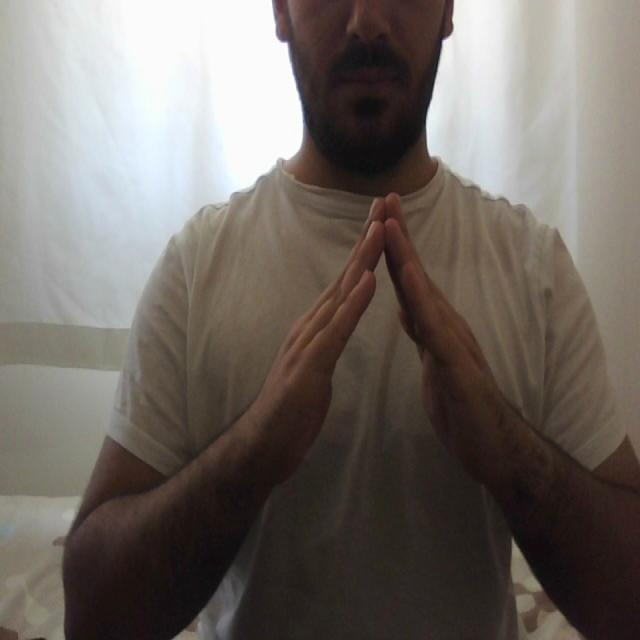Ev: (235, 188, 537, 492)
